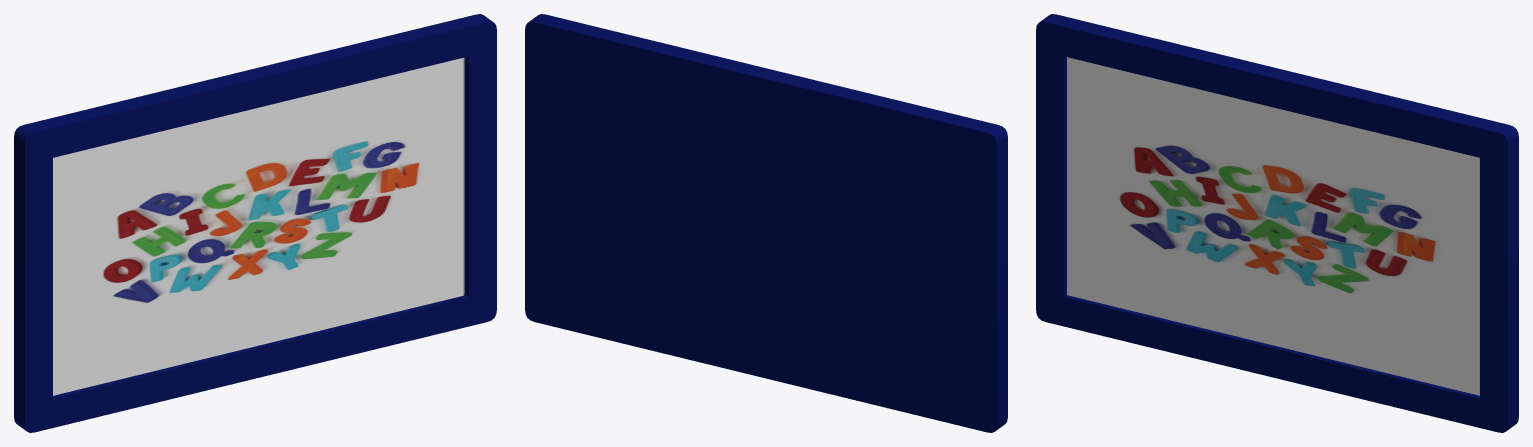
Rendered from Magnetic board.fbx.
3 renders of one model, left to right at view 1: azimuth 30°, elevation 25°; view 2: azimuth 150°, elevation 25°; view 3: azimuth 330°, elevation 25°, orthographic.
Parts seen in each view (by area): view 1: whiteboard; view 2: whiteboard; view 3: whiteboard.
Boxes of the visible parts, x1,y1,x2,y2 form: whiteboard: (14,14,496,432); whiteboard: (525,14,1007,432); whiteboard: (1036,14,1518,432).
Size of the model in its own units: 50.19 by 30.45 by 2.
1 material, 1 textured.
